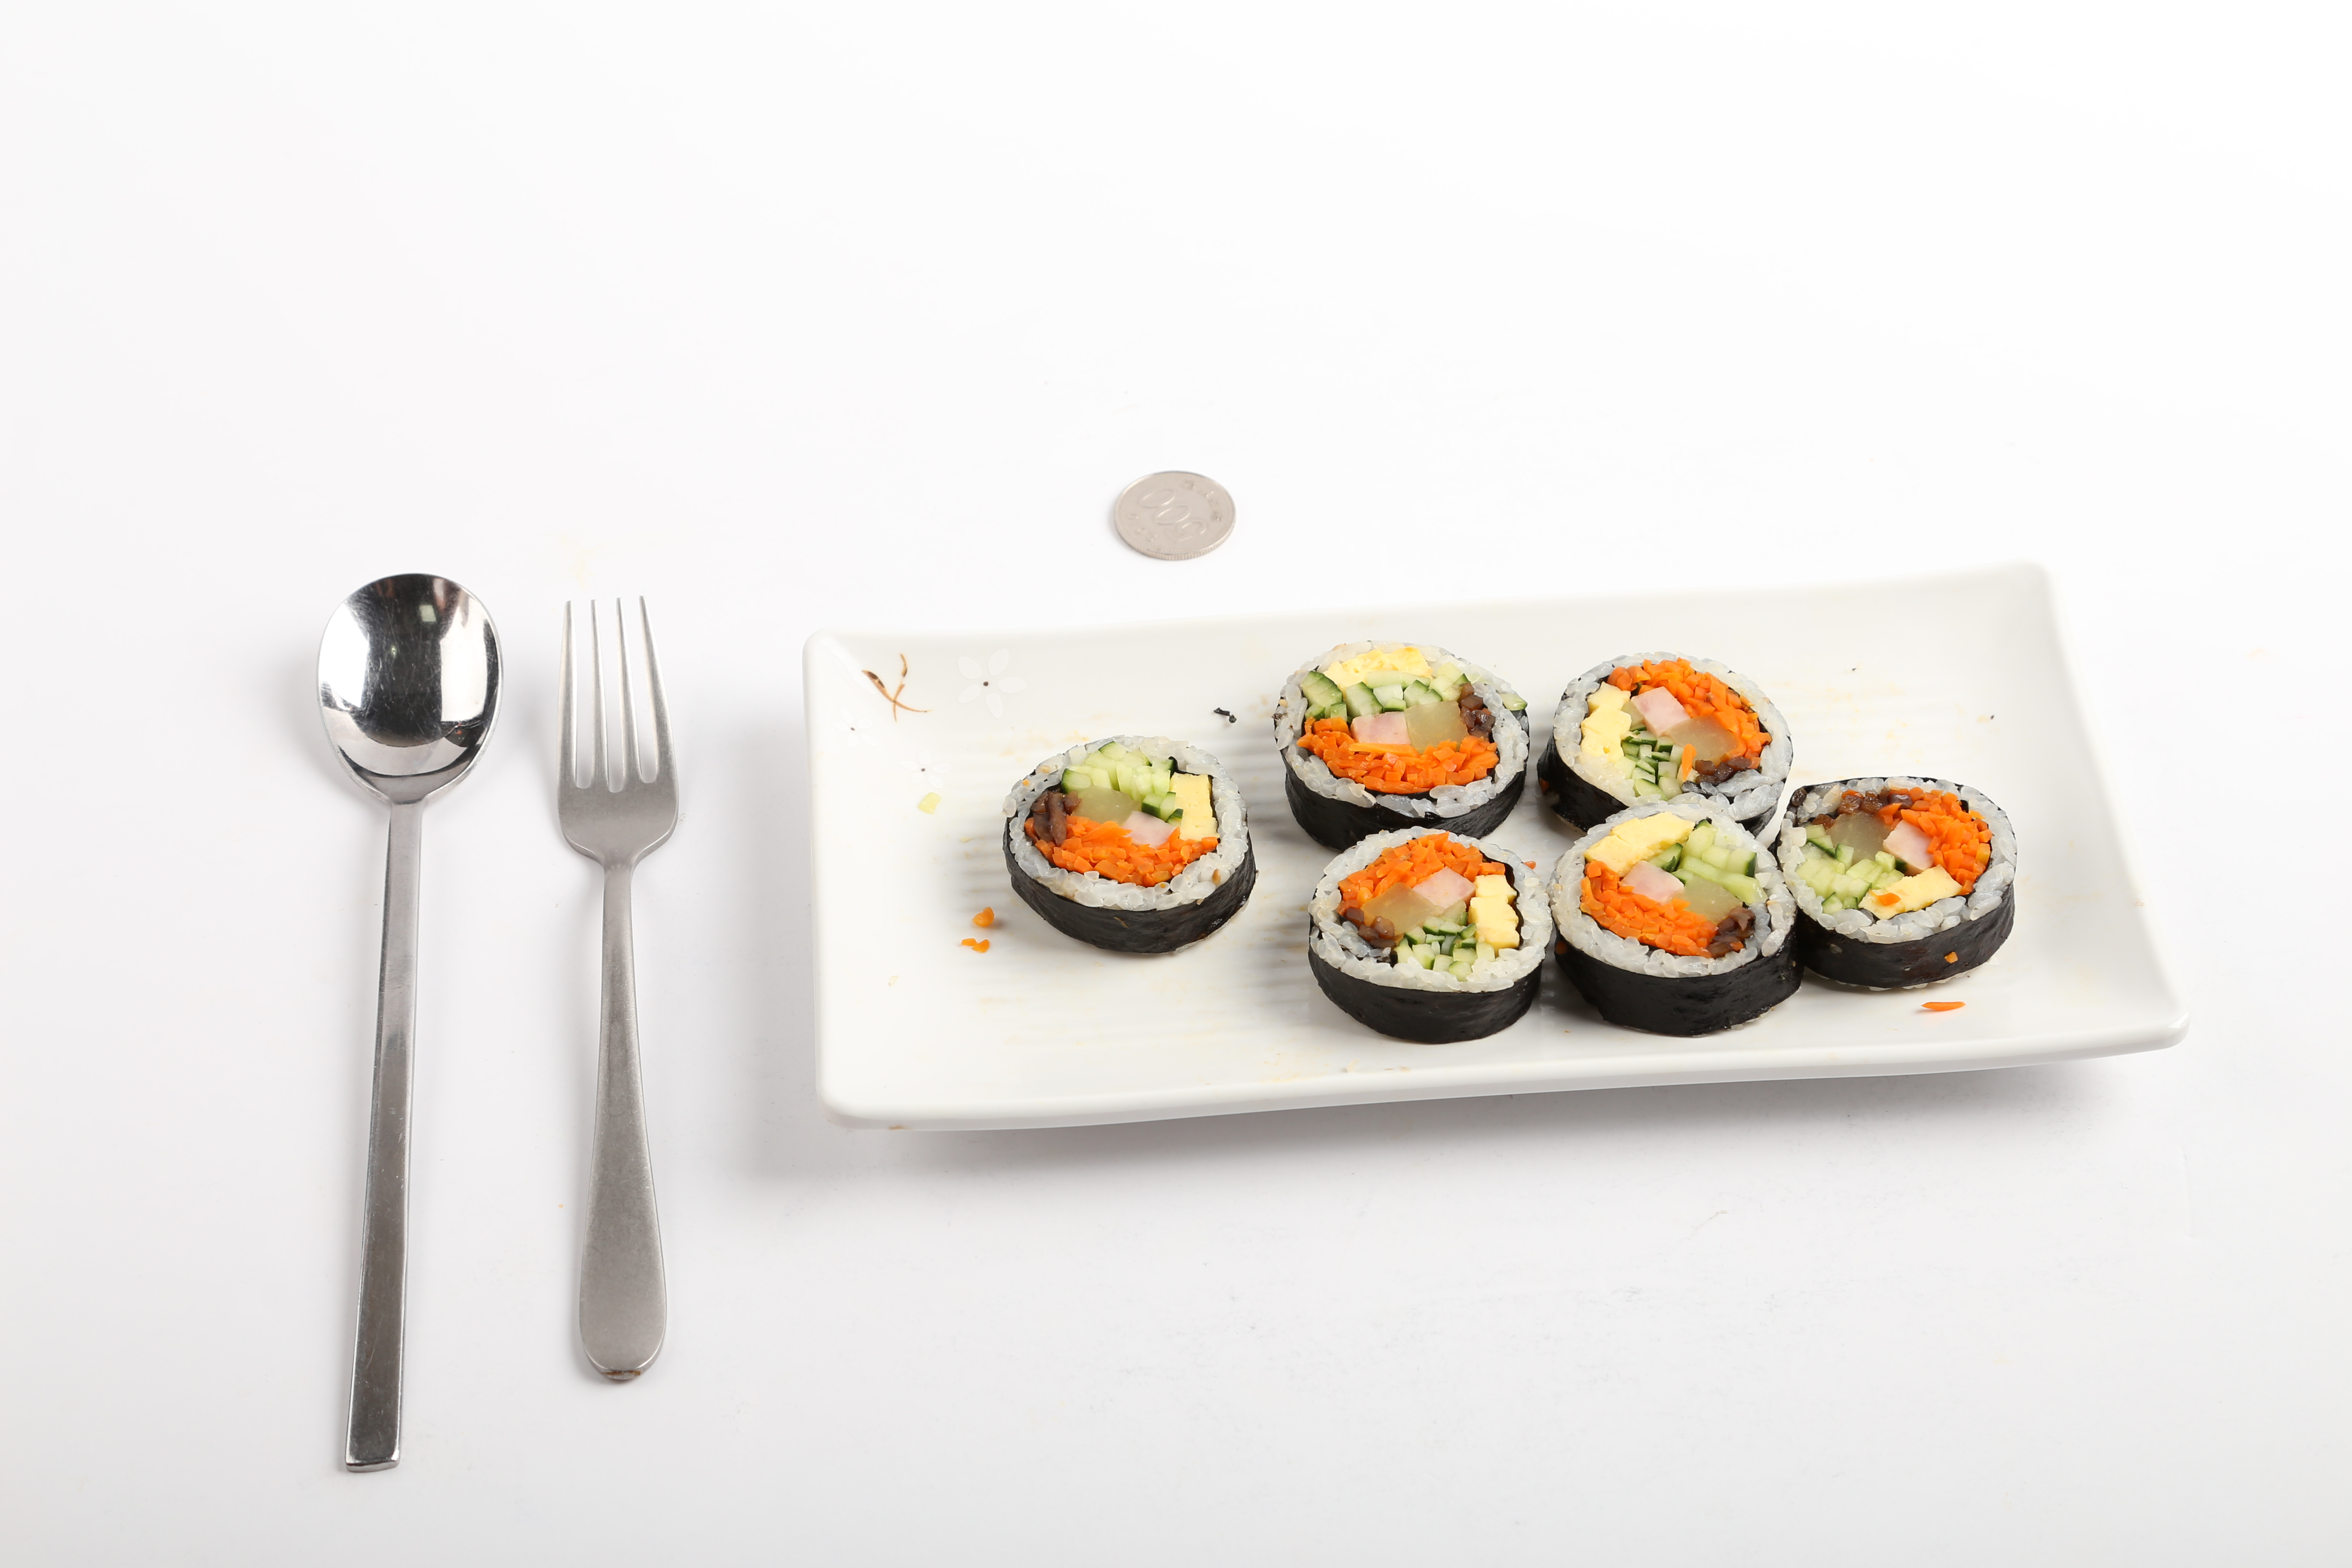dish: (800, 553, 2189, 1139)
ref_coin: (1104, 462, 1239, 569)
ref_fork: (548, 598, 682, 933)
ref_spoon: (317, 569, 507, 905)
김밥: (1001, 630, 2012, 1045)
